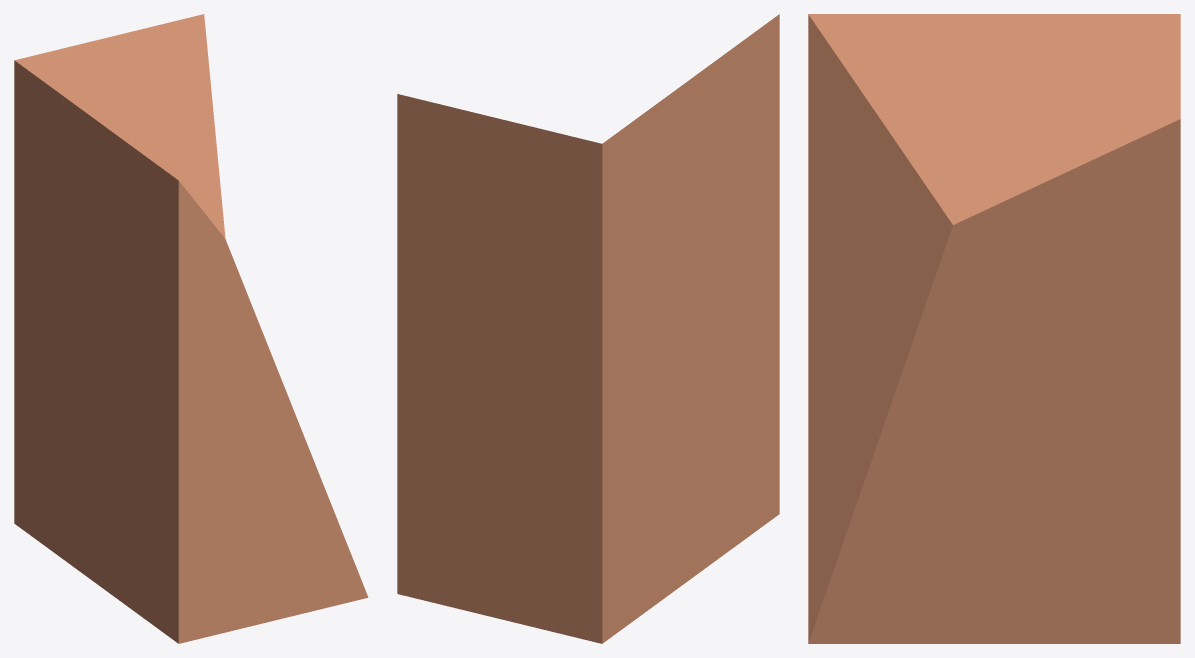
The model's file is spacecheck.gltf.
3 views of the same model, side by side, from view 1: azimuth 30°, elevation 25°; view 2: azimuth 150°, elevation 25°; view 3: azimuth 270°, elevation 25° (orthographic). The views are drawn at different scales.
Parts seen in each view (by area): view 1: SpaceCheck; view 2: SpaceCheck; view 3: SpaceCheck.
Part boxes in pixels (x1,y1,x2,y2): SpaceCheck: (14,14,368,643); SpaceCheck: (397,14,779,643); SpaceCheck: (808,14,1180,643).
Bounding box in the file's own units: 0.6 × 1.4 × 0.9.
